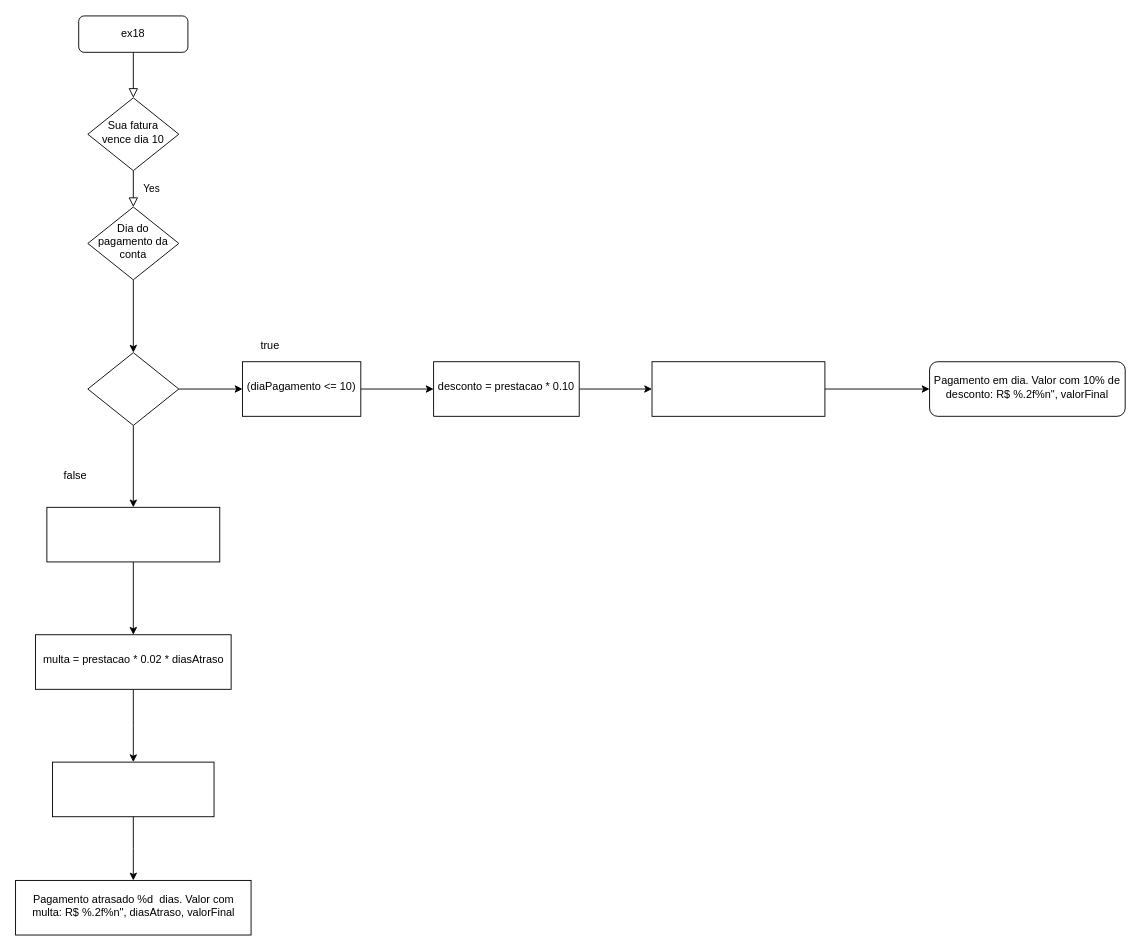
Some shapes in this 1142 by 951 pixel diagram are drawn without their labels. The centre of each missing label's shape, as x and y in pixels:
"diasAtraso = diaPagamento - 10" goes at point (133, 534).
"Valor da prestação" goes at point (133, 388).
"valorFinal = prestacao + multa" goes at point (133, 789).
"valorFinal = prestacao - desconto" goes at point (738, 388).
